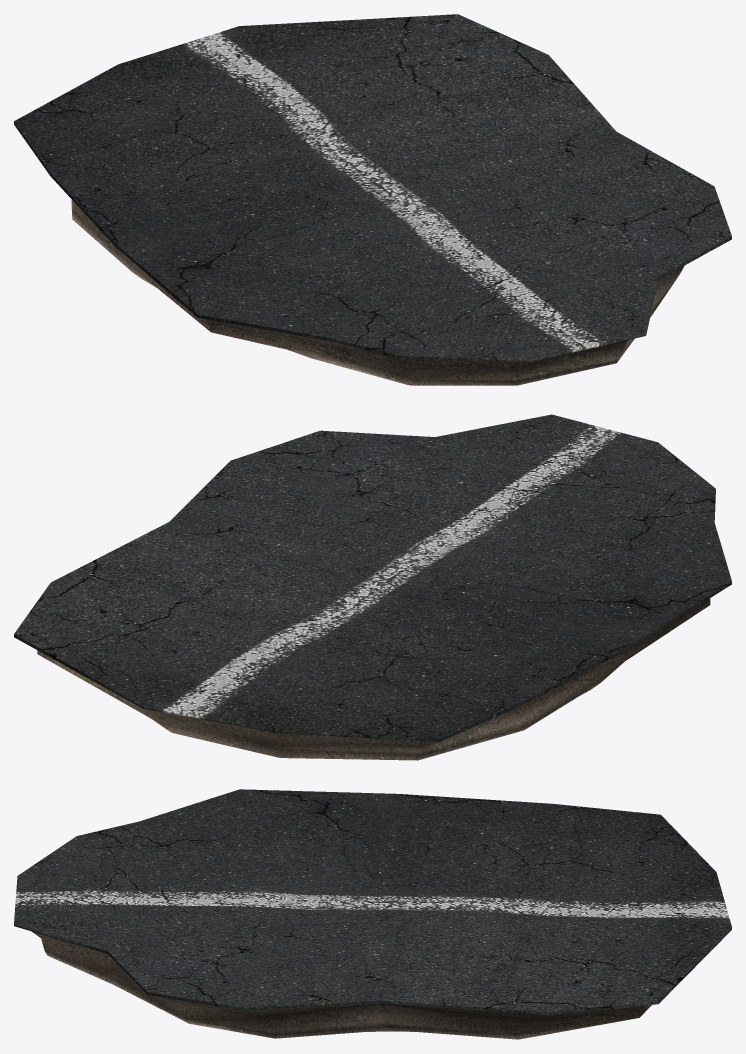
File: Platform.fbx
3 views of the same model, one above another, from view 1: azimuth 30°, elevation 25°; view 2: azimuth 150°, elevation 25°; view 3: azimuth 270°, elevation 25° (orthographic). The views are drawn at different scales.
Visible parts, largest first — view 1: Platform06; view 2: Platform06; view 3: Platform06.
Part boxes in pixels (x1,y1,x2,y2): Platform06: (14, 14, 731, 385); Platform06: (14, 414, 731, 760); Platform06: (14, 789, 731, 1039).
Bounding box in the file's own units: 103 × 11.76 × 140.
Materials: 1 (1 with a texture image).
